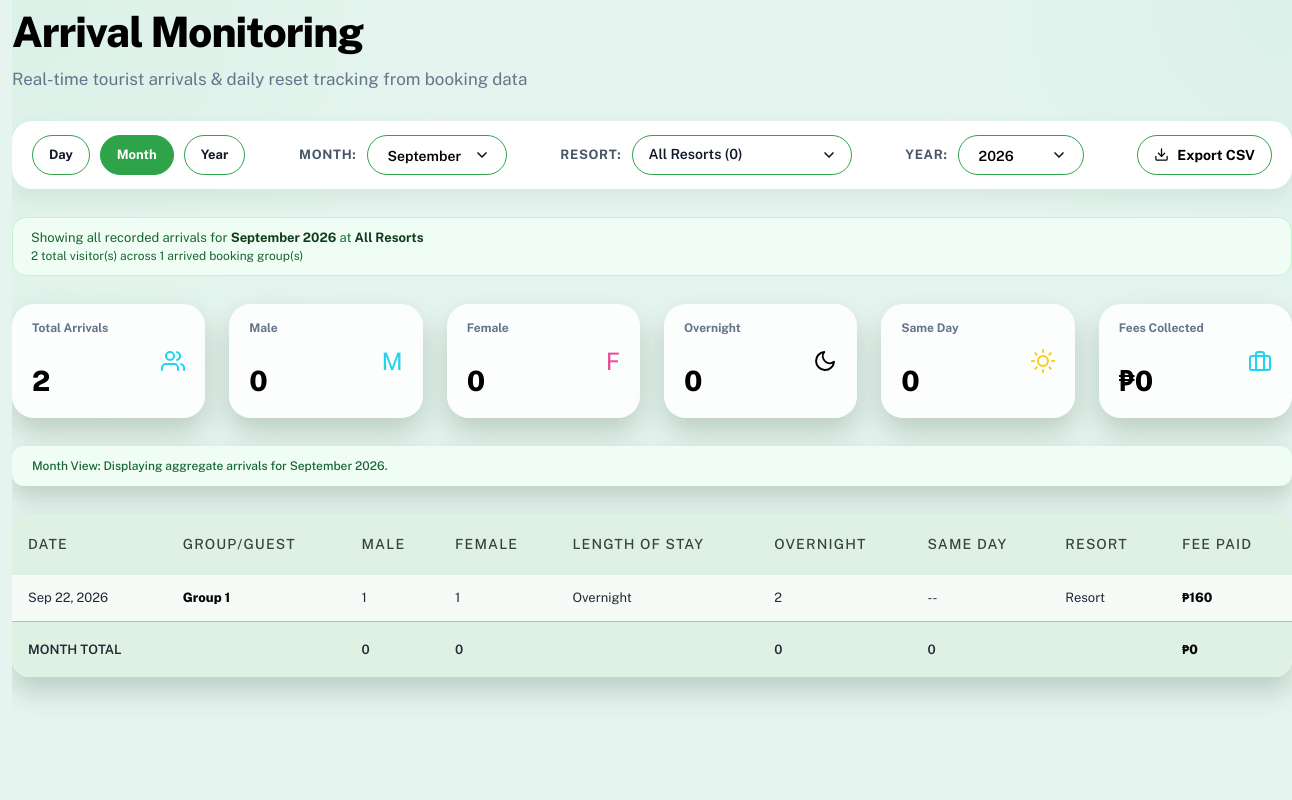
Test: Arrival Monitoring labels describe the data on screen › after a failed request, the labels and numbers still describe the previous view
Select "October" in the dropdown named "Arrival month" at (436, 154), box [366,134,506,174]
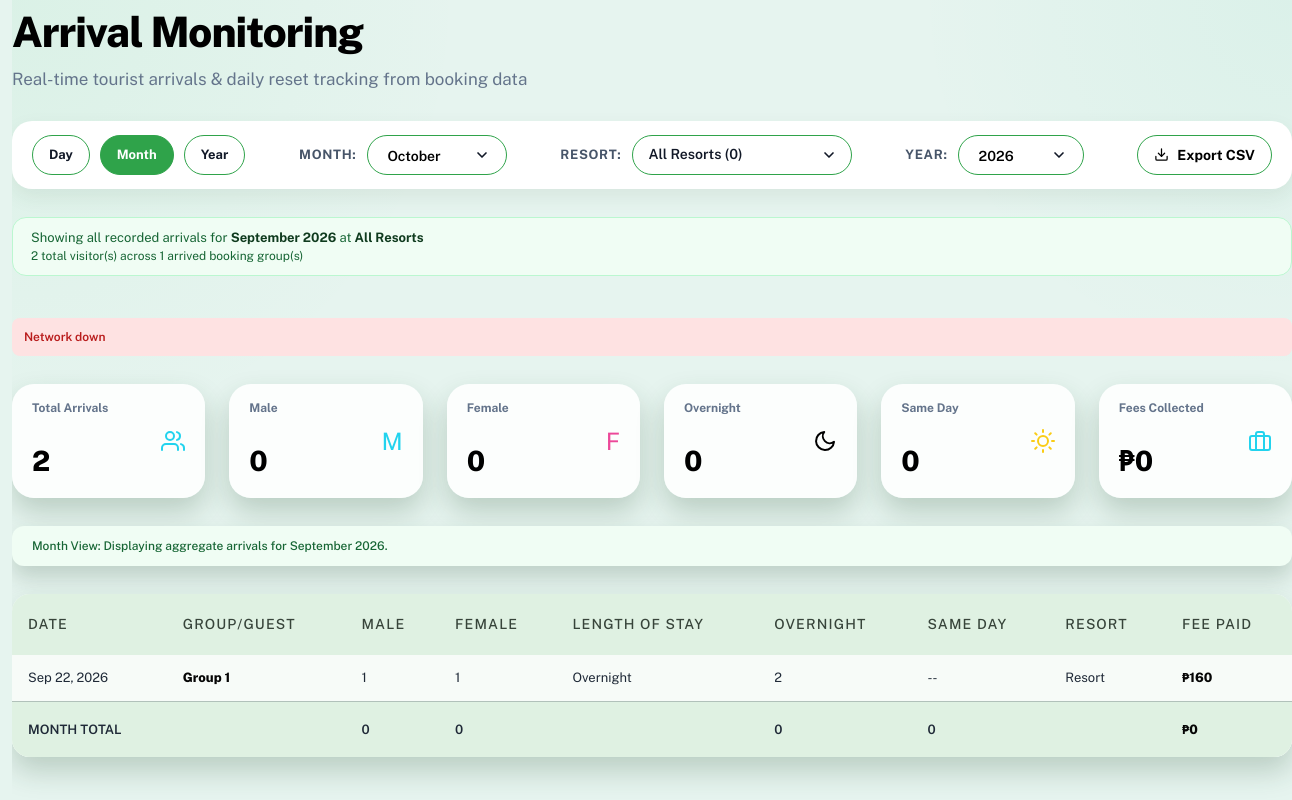
expect the text "Month View: Displaying aggregate arrivals for September 2026" is shown: met, box [32,539,388,553]
expect the text "Network down" is shown: met, box [12,318,1291,356]
